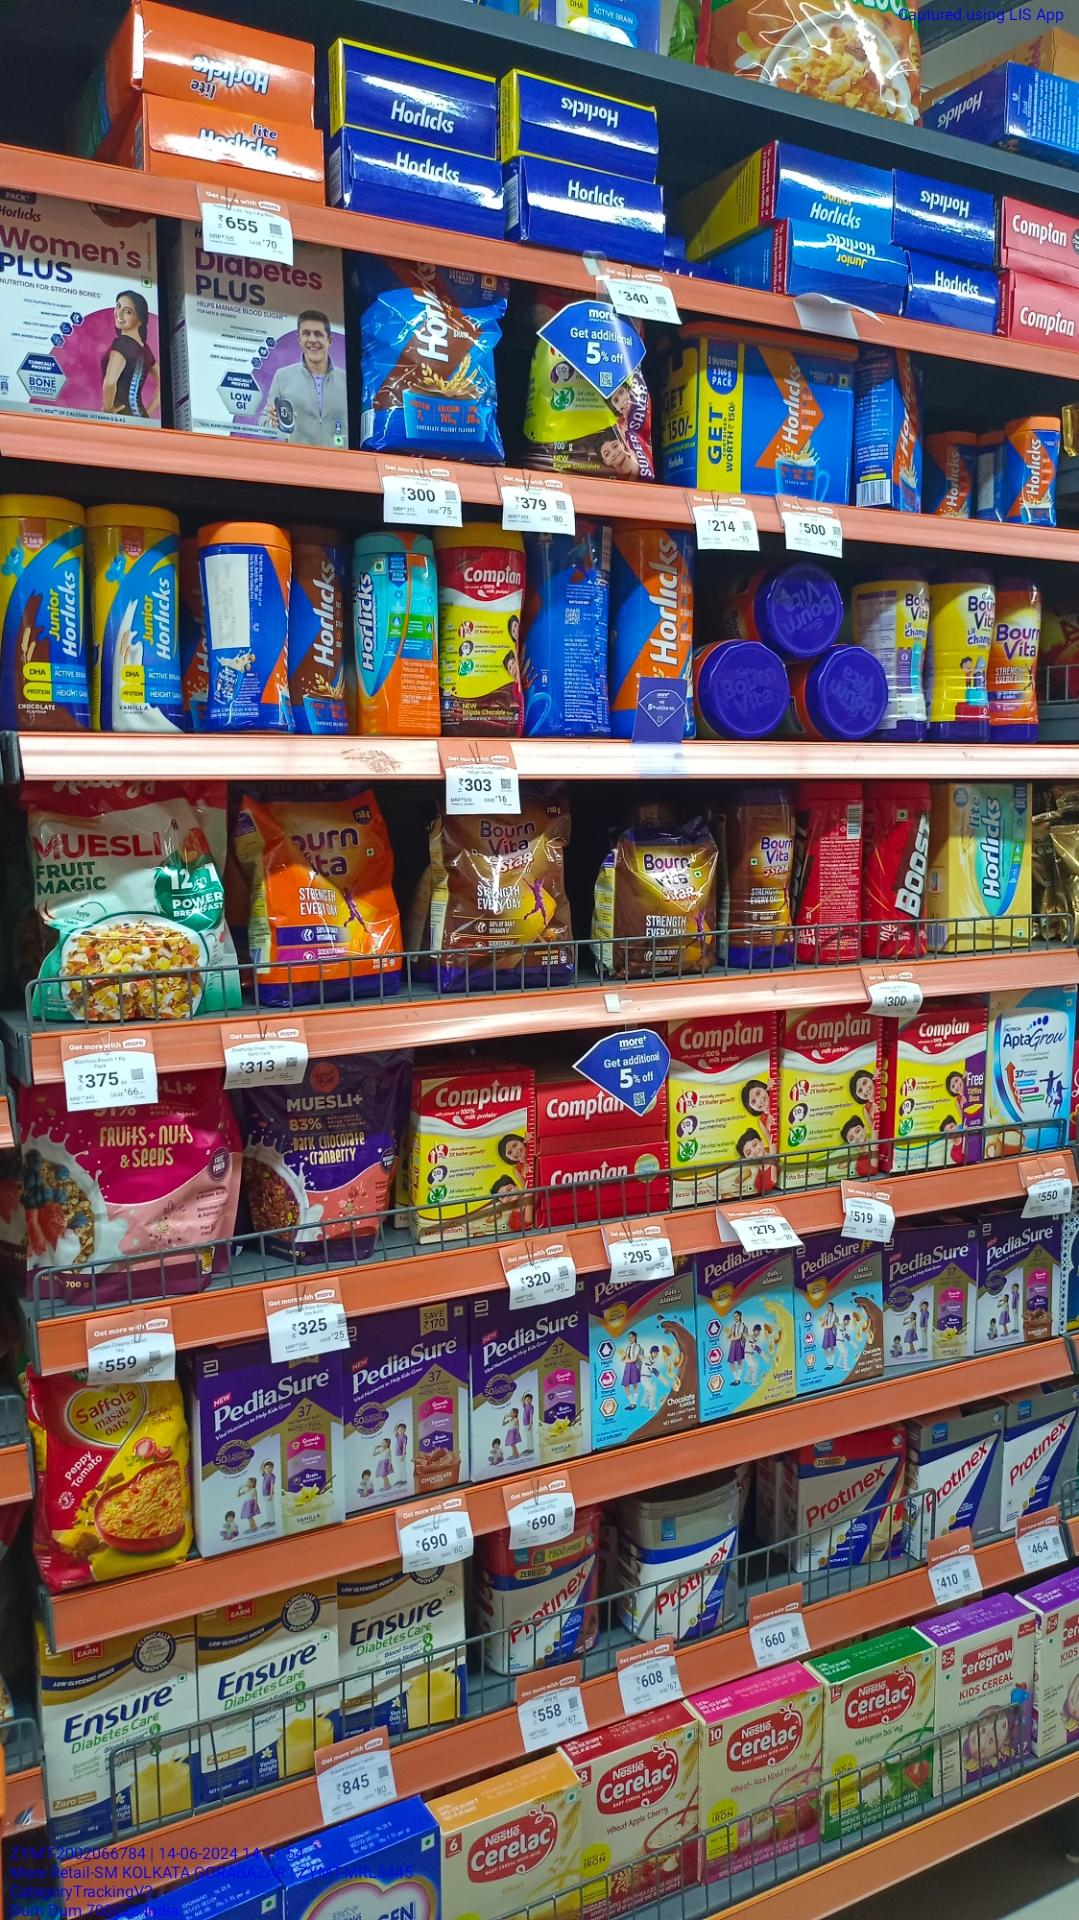BOURN_VITA_CHAMPS_500_G_JAR: (935, 570, 993, 744), (885, 574, 933, 738)
BOURN_VITA_FIVE_STAR_MAGIC_500_G_JAR: (727, 793, 785, 961)
BOURN_VITA_FIVE_STAR_MAGIC_500_G_POUCH: (431, 799, 578, 969), (611, 814, 716, 972)
COMPLAN_CREAMY_CLASSIC_500_G_PACK: (892, 1015, 981, 1166)
COMPLAN_KESAR_BADAM_200_GMS_PACK: (418, 1077, 534, 1244)
COMPLAN_KESAR_BADAM_500_GMS_PACK: (673, 1017, 777, 1211), (786, 1015, 880, 1189)
HORLICKS_JUNIOR_VANILLA_500_GM_JAR: (88, 508, 182, 728)
HORLICKS_LITE_REGULAR_MALT_500_GM_JAR: (354, 538, 445, 735)
HORLICK_CHOCOLATE_500_G_JAR: (294, 530, 347, 737)
HORLICK_MALT_1_KG_CONTAINER: (699, 318, 856, 506)
PEDIASURE_7_PLUS_CHOCOLATE_400_G_PACK: (595, 1265, 700, 1453), (798, 1242, 884, 1396)
PEDIASURE_CHOCOLATE_500_G_PACK: (347, 1321, 470, 1515), (981, 1213, 1057, 1346)
PEDIASURE_VANILLA_500_G_PACK: (195, 1364, 346, 1547), (471, 1319, 591, 1469), (886, 1228, 979, 1364)
PROTINEX_CHOCOLATE_400_G_JAR: (501, 1510, 607, 1676)
PROTINEX_ORIGINAL_400_G_JAR: (632, 1501, 732, 1636)
PROTINEX_VANILLA_400_G_JAR: (799, 1447, 902, 1565)
